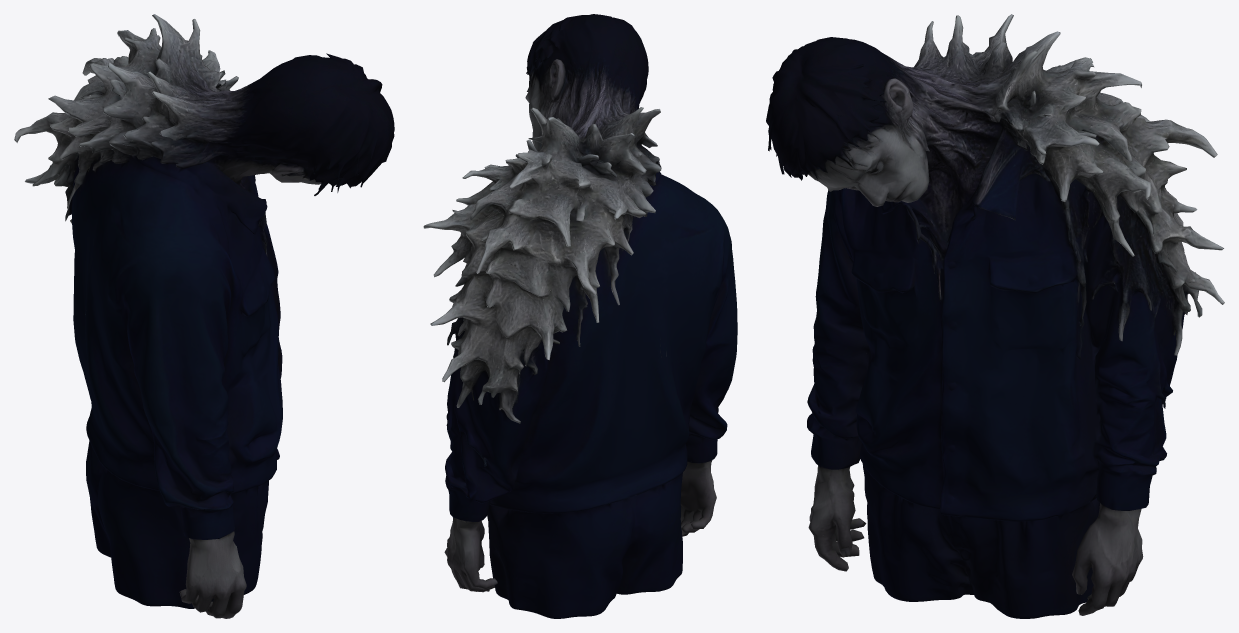
Rendered from host_parasite.glb.
3 renders of one model, left to right at view 1: azimuth 30°, elevation 25°; view 2: azimuth 150°, elevation 25°; view 3: azimuth 270°, elevation 25°, orthographic. The views are drawn at different scales.
Parts seen in each view (by area): view 1: node_0ec5b74b-4d72-47c1-95f3-cd82ef3b8aff; view 2: node_0ec5b74b-4d72-47c1-95f3-cd82ef3b8aff; view 3: node_0ec5b74b-4d72-47c1-95f3-cd82ef3b8aff.
Boxes of the visible parts, x1,y1,x2,y2 form: node_0ec5b74b-4d72-47c1-95f3-cd82ef3b8aff: (14, 14, 394, 618); node_0ec5b74b-4d72-47c1-95f3-cd82ef3b8aff: (423, 14, 737, 618); node_0ec5b74b-4d72-47c1-95f3-cd82ef3b8aff: (766, 14, 1224, 618).
Bounding box in the file's own units: 0.4644 × 1 × 0.7243.
1 material, 1 textured.
